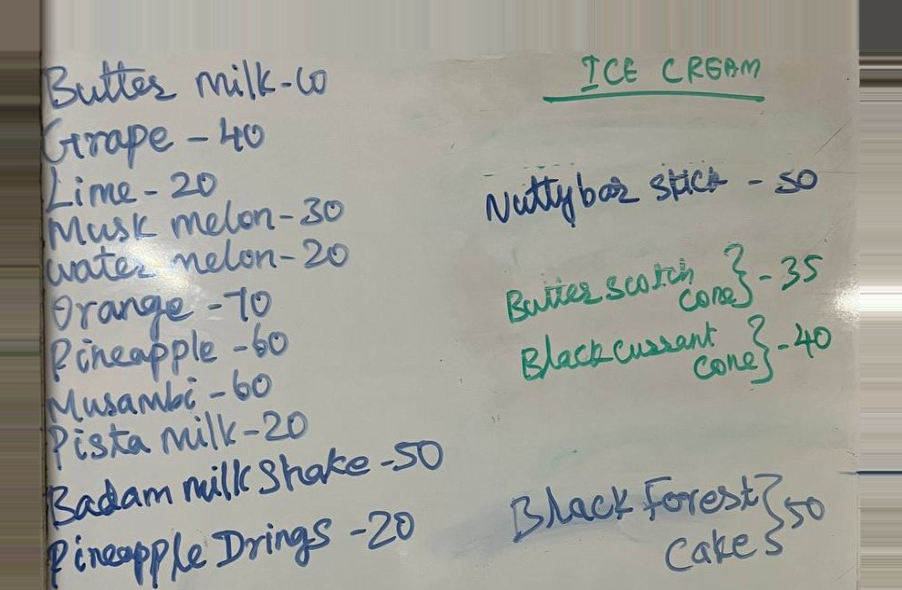badam milkshake - 50: (51, 454, 446, 516)
black current cone - 40: (517, 313, 841, 391)
black forest cake - 50: (507, 468, 827, 576)
butter milk - 10: (43, 59, 341, 113)
butterscotch cone - 35: (505, 244, 830, 316)
grape - 40: (40, 114, 271, 165)
lime - 20: (40, 164, 232, 209)
musambi - 60: (45, 375, 259, 421)
musk melon - 30: (45, 197, 346, 242)
nutty bar - 30: (482, 164, 825, 219)
orange - 70: (47, 280, 277, 336)
pineapple - 60: (50, 325, 292, 377)
pineapple drink - 20: (46, 518, 418, 590), (52, 419, 307, 459)
water melon - 20: (45, 236, 353, 292)
